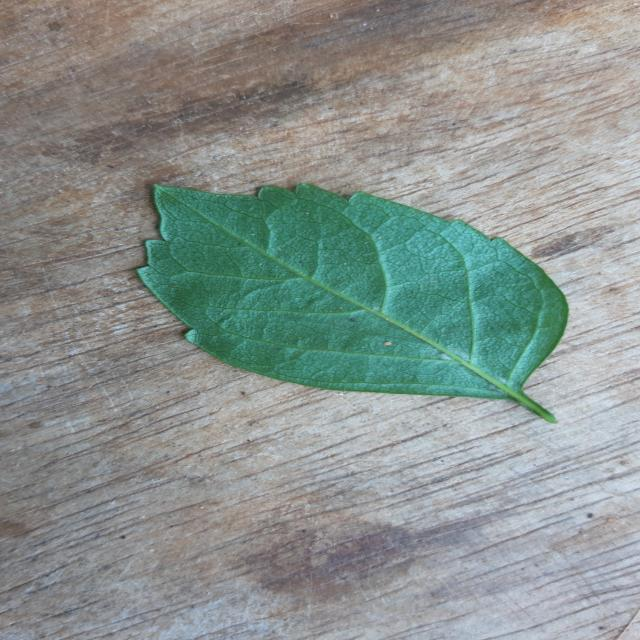tecoma: (138, 184, 567, 422)
